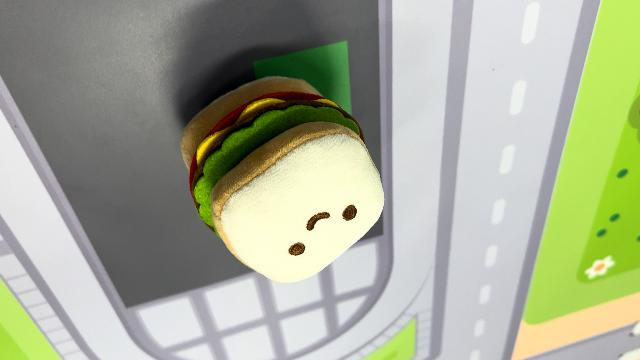sandwich: (178, 72, 386, 284)
